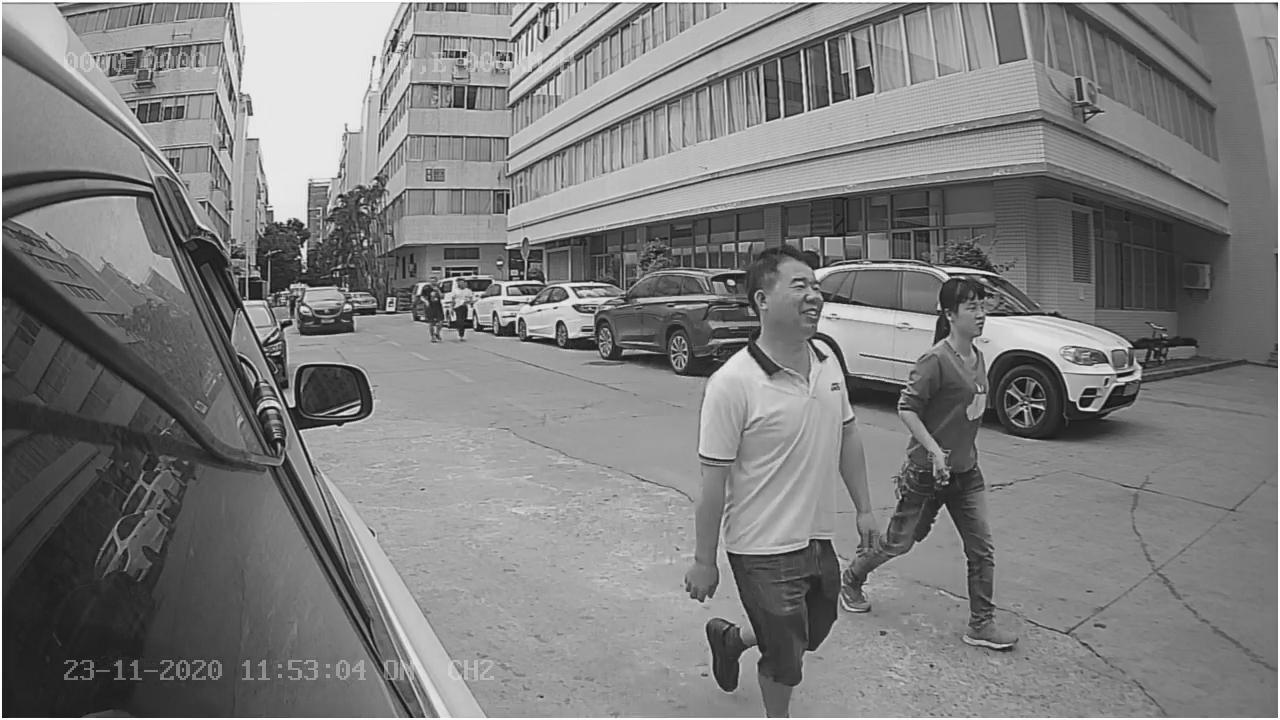person: (690, 244, 875, 708), (883, 268, 1008, 637)
